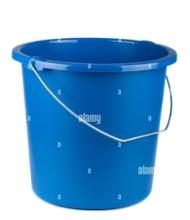SEAU: (1, 12, 190, 220)
